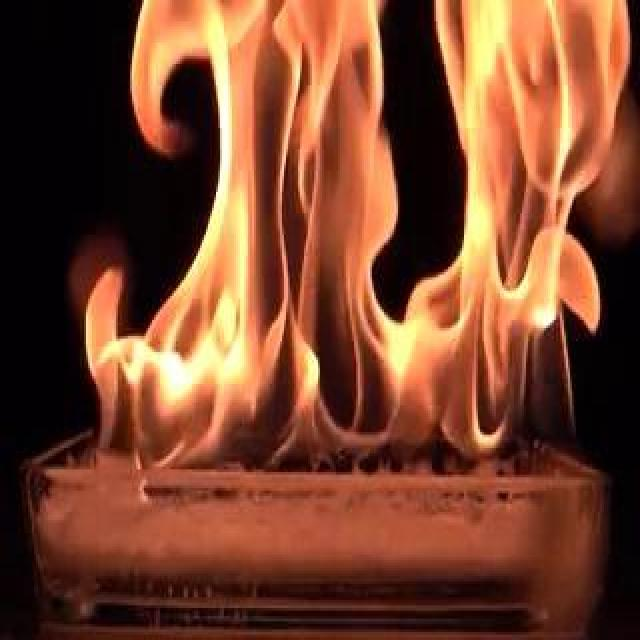Fire: (66, 2, 584, 482)
